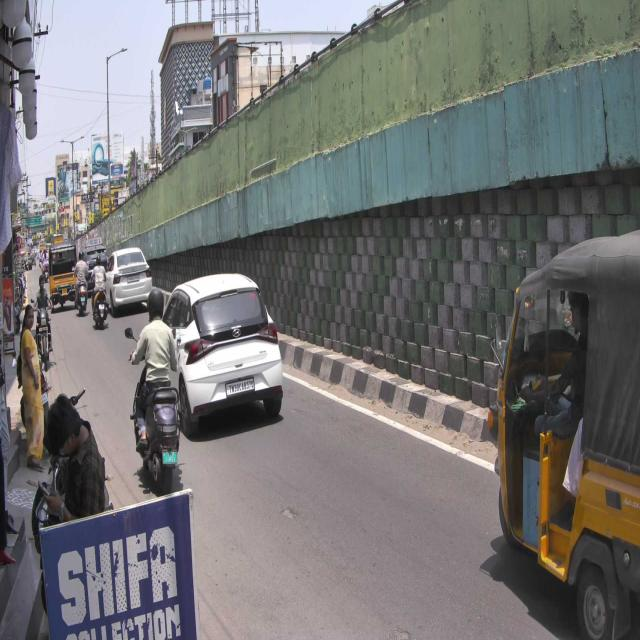single_rider: (124, 287, 186, 494)
